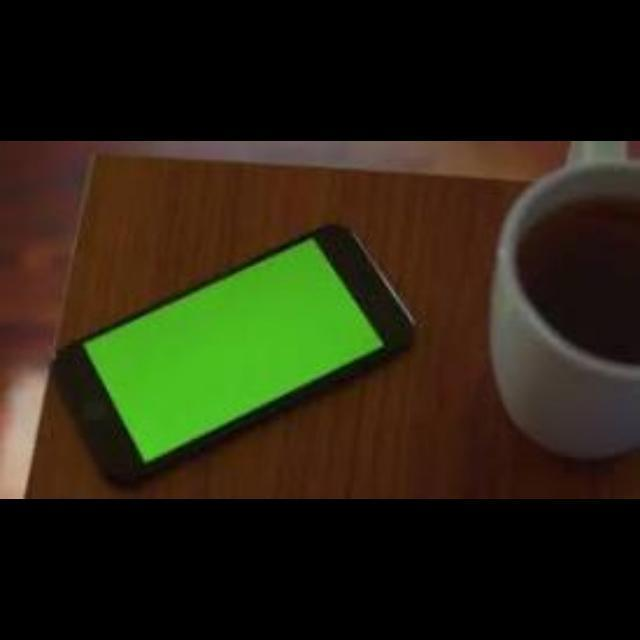phone: (43, 249, 411, 465)
